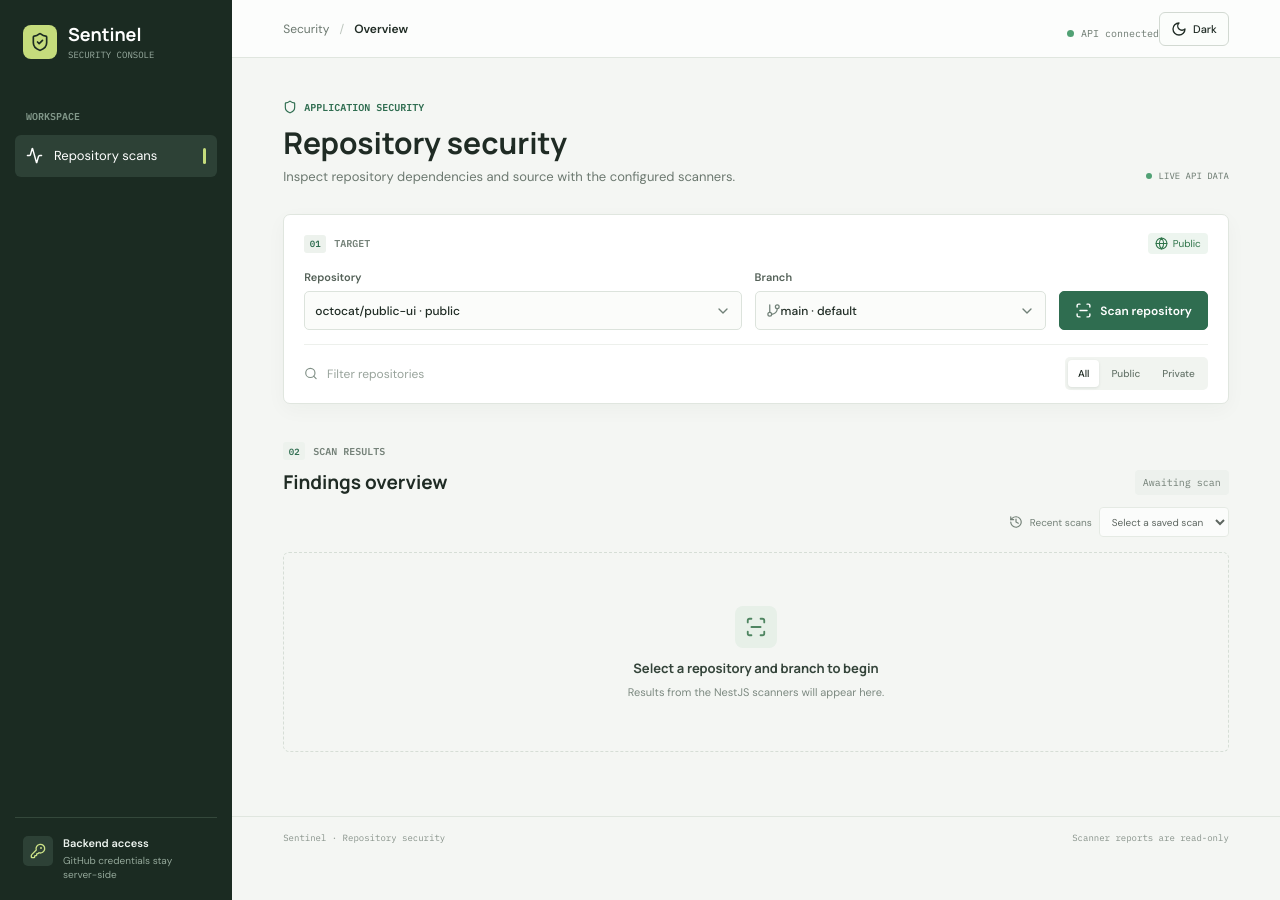
Security dashboard › marks truncated repository scans as partial even when scanners complete
What coordinates should you click on to do the following:
click the button "Scan repository"
I would click on:
 (1134, 310)
Its box is [1059,291,1208,330].
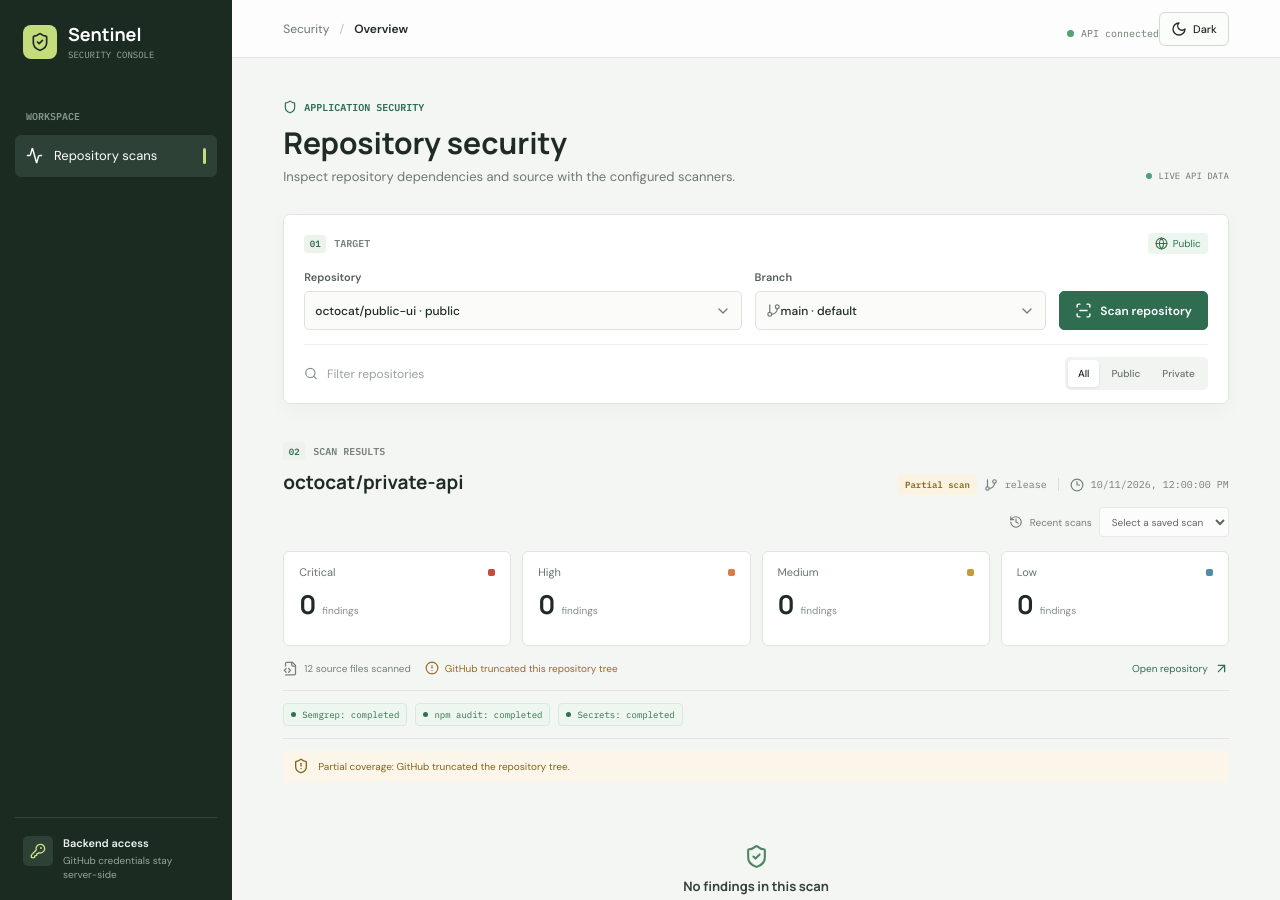
Result: the text "Partial scan" is shown at [898,474,977,495]
Result: the text "Partial coverage: GitHub truncated the repository tree." is shown at [318,760,570,772]
Result: the text "No findings in this scan" is shown at [683,876,829,894]
